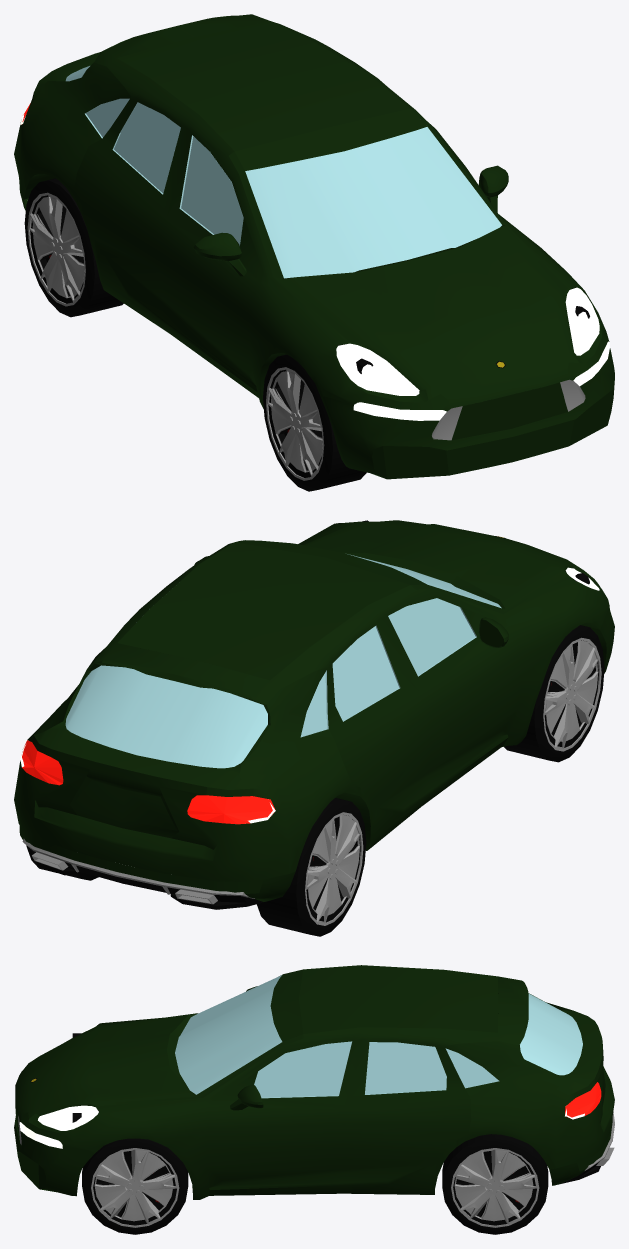
Rendered from car_macan.glb.
3 views of the same model, one above another, from view 1: azimuth 30°, elevation 25°; view 2: azimuth 150°, elevation 25°; view 3: azimuth 270°, elevation 25° (orthographic). The views are drawn at different scales.
Visible parts, largest first — view 1: Body, Windows_Front, Roof_Regular, Classic_Front_Bumper, Sport_Wheels, Classic_Wheels_1, Windows_Back, Sport_Grills, Classic_Front_Lights_1, Mirrors; view 2: Body, Roof_Regular, Windows_Back, Sport_Wheels, Classic_Wheels_1, Windows_Front, Sport_Rear_Bumper, Classic_Back_Lights, Classic_Rear_Bumper_1, Mirrors; view 3: Body, Roof_Regular, Windows_Front, Sport_Wheels, Windows_Back, Classic_Wheels_1, Classic_Front_Lights_1, Classic_Front_Bumper, Sport_Rear_Bumper, Classic_Back_Lights, Sport_Grills, Classic_Rear_Bumper_1 (+1 smaller).
Part boxes in pixels (x1=…): Body: x1=14, y1=14, x2=614, y2=478; Windows_Front: x1=179, y1=127, x2=501, y2=278; Roof_Regular: x1=117, y1=21, x2=426, y2=170; Classic_Front_Bumper: x1=353, y1=341, x2=613, y2=479; Sport_Wheels: x1=24, y1=178, x2=366, y2=491; Classic_Wheels_1: x1=30, y1=195, x2=322, y2=477; Windows_Back: x1=65, y1=66, x2=180, y2=194; Sport_Grills: x1=356, y1=342, x2=609, y2=450; Classic_Front_Lights_1: x1=336, y1=287, x2=599, y2=395; Mirrors: x1=193, y1=165, x2=508, y2=276; Body: x1=14, y1=520, x2=614, y2=881; Roof_Regular: x1=117, y1=540, x2=426, y2=680; Windows_Back: x1=65, y1=609, x2=400, y2=768; Sport_Wheels: x1=26, y1=625, x2=604, y2=936; Classic_Wheels_1: x1=306, y1=640, x2=598, y2=922; Windows_Front: x1=347, y1=554, x2=501, y2=676; Sport_Rear_Bumper: x1=22, y1=837, x2=292, y2=909; Classic_Back_Lights: x1=22, y1=740, x2=275, y2=824; Classic_Rear_Bumper_1: x1=19, y1=825, x2=295, y2=901; Mirrors: x1=194, y1=556, x2=508, y2=647; Body: x1=15, y1=965, x2=614, y2=1199; Roof_Regular: x1=270, y1=965, x2=498, y2=1041; Windows_Front: x1=175, y1=975, x2=352, y2=1098; Sport_Wheels: x1=82, y1=1134, x2=548, y2=1234; Windows_Back: x1=365, y1=993, x2=582, y2=1094; Classic_Wheels_1: x1=93, y1=1150, x2=536, y2=1225; Classic_Front_Lights_1: x1=38, y1=1024, x2=98, y2=1130; Classic_Front_Bumper: x1=14, y1=1108, x2=62, y2=1189; Sport_Rear_Bumper: x1=550, y1=1111, x2=614, y2=1185; Classic_Back_Lights: x1=565, y1=1082, x2=601, y2=1117; Sport_Grills: x1=14, y1=1116, x2=62, y2=1158; Classic_Rear_Bumper_1: x1=549, y1=1118, x2=612, y2=1185.
Size of the model in its own units: 2.12 by 1.64 by 4.69.
